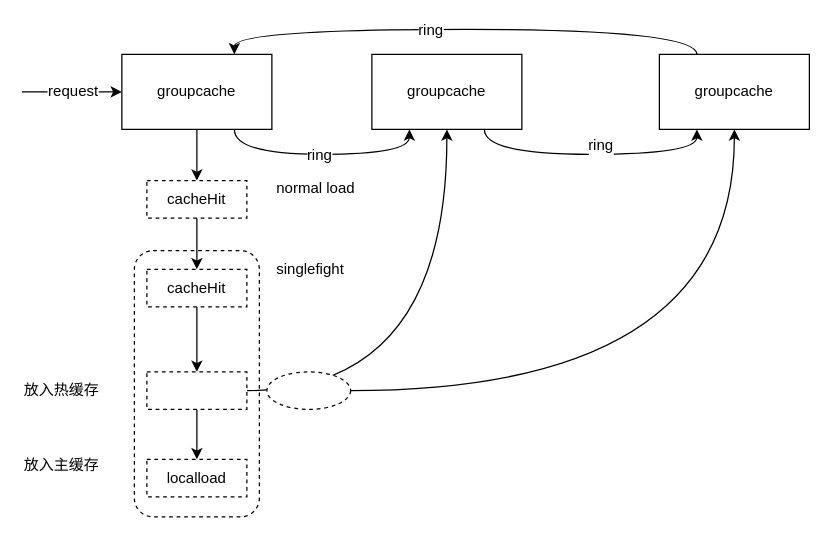
The diagram is 831 pixels wide and 539 high, and some of its shapes have lost their labels. Here are the shapes that lost their labels. From the top down, the centre of each, then its label:
the point at 196,390: load
the point at 308,390: peerPiker
